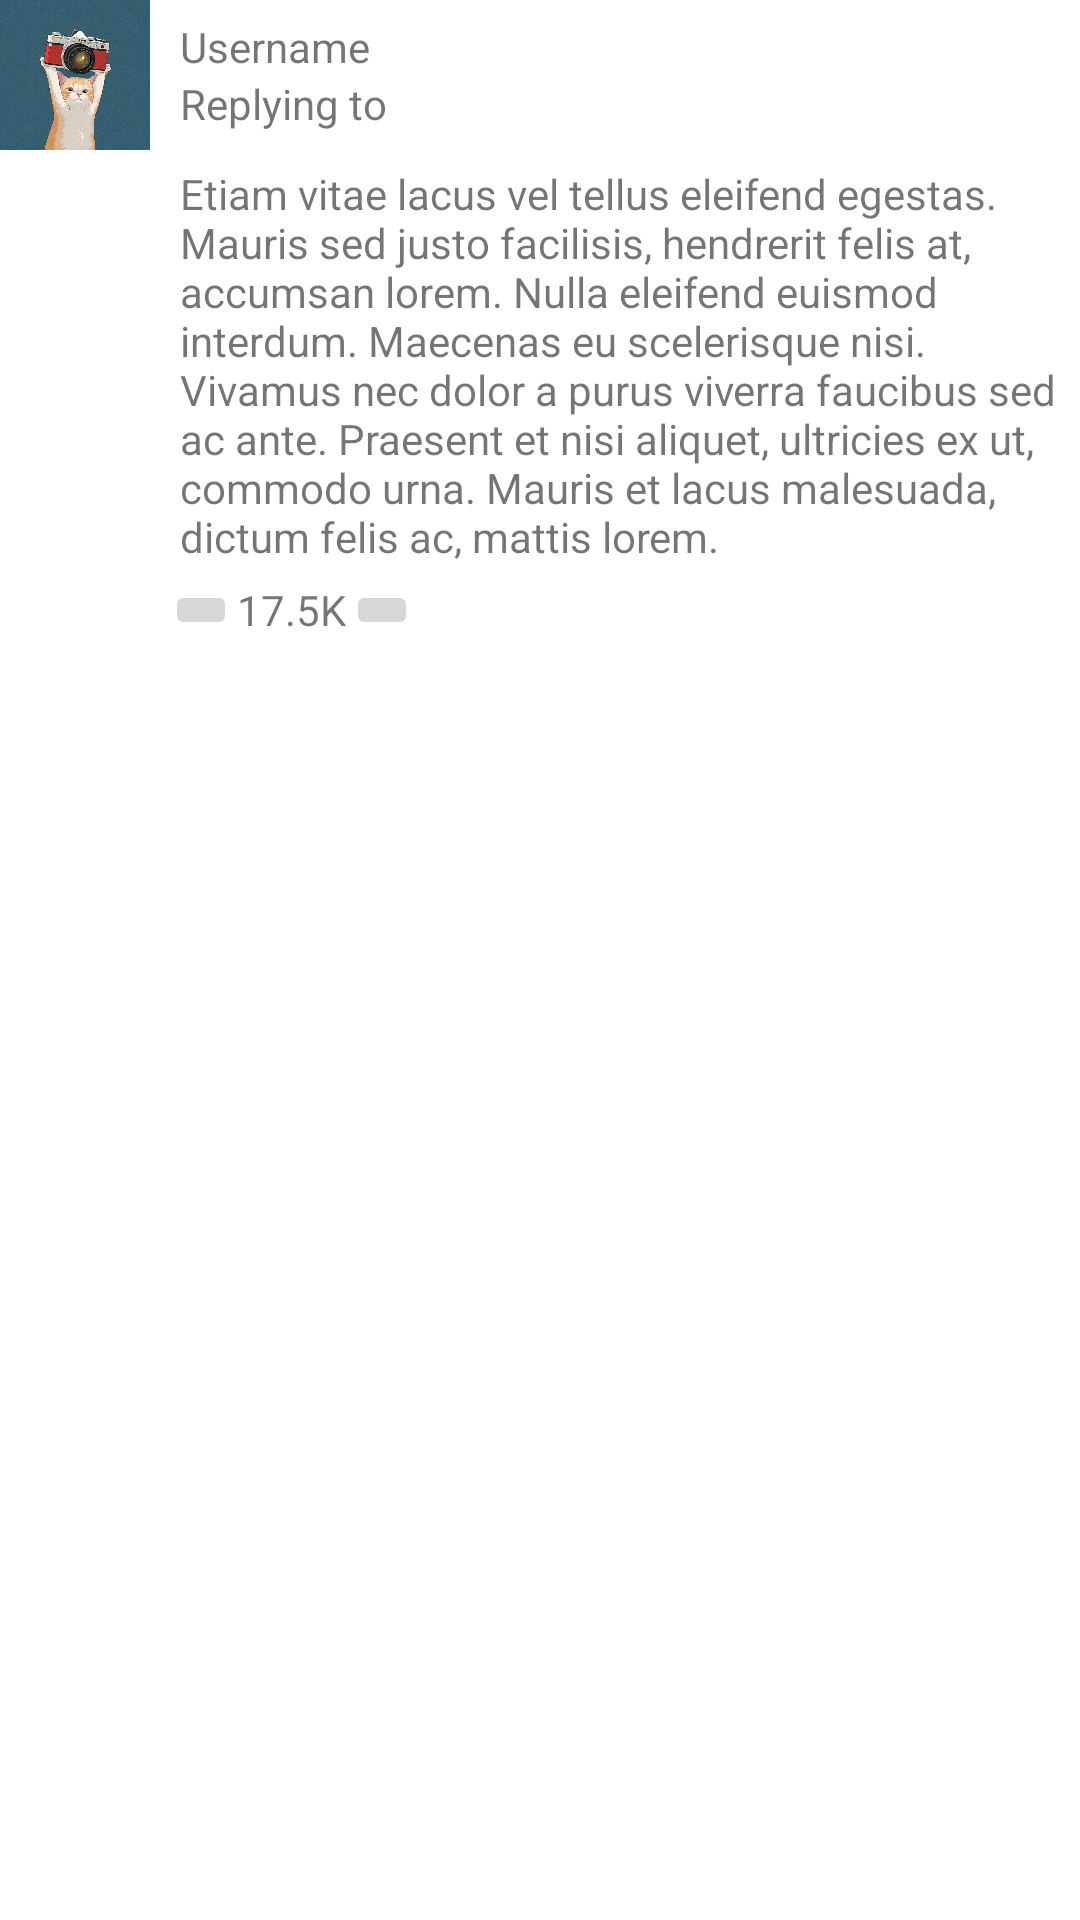

Where icons sit on this 1080px×1920px app screen, as [x1, y1, x2, y2]:
cat user: [0, 0, 150, 150]
